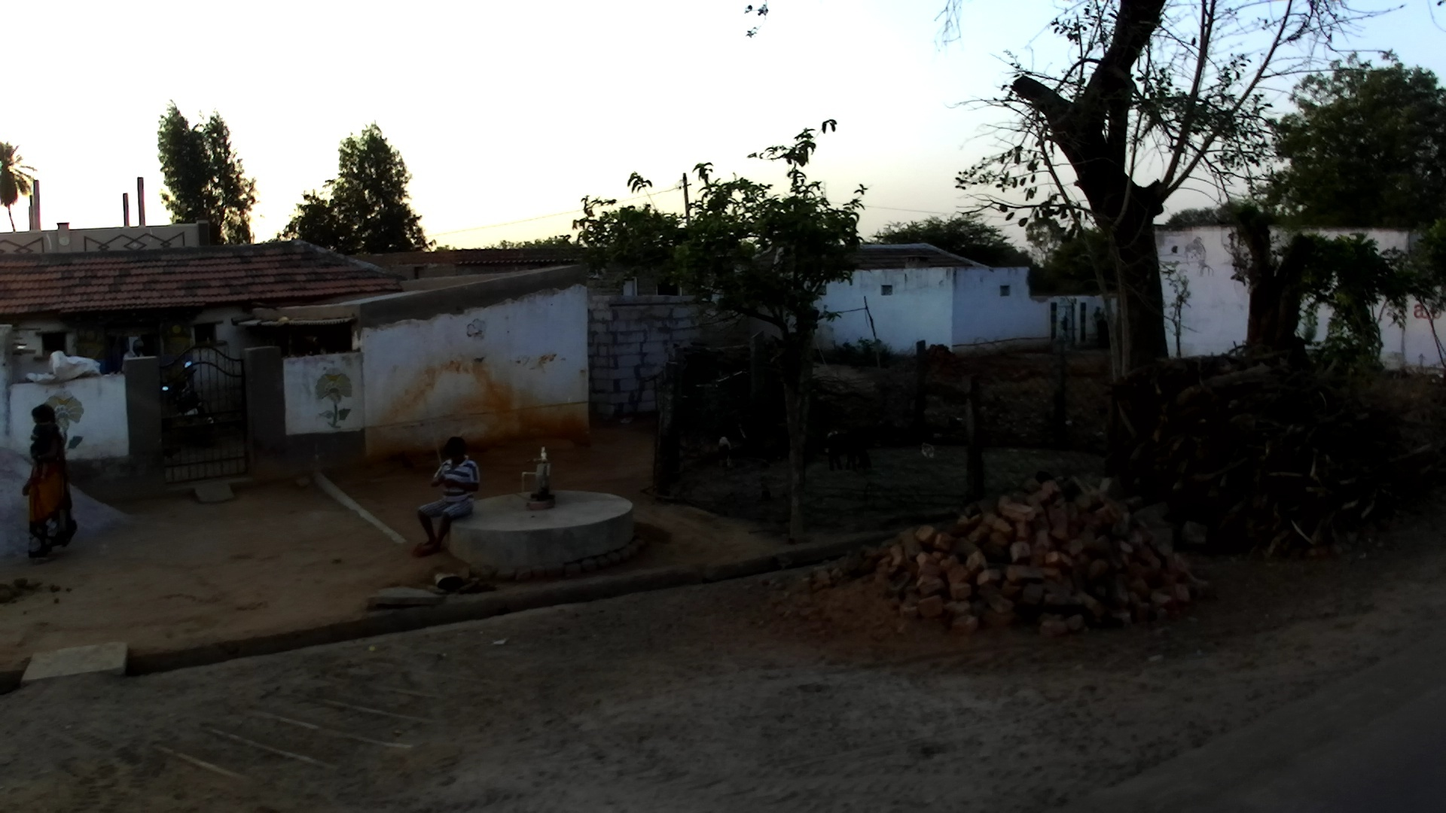person: (21, 403, 79, 559), (413, 437, 480, 557)
